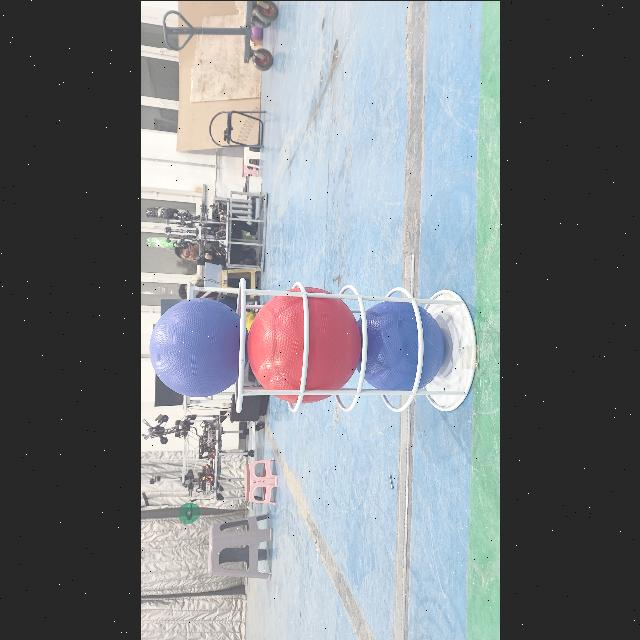B: (149, 297, 247, 395), (356, 298, 444, 392)
R: (247, 285, 363, 405)
S: (226, 272, 484, 418)
